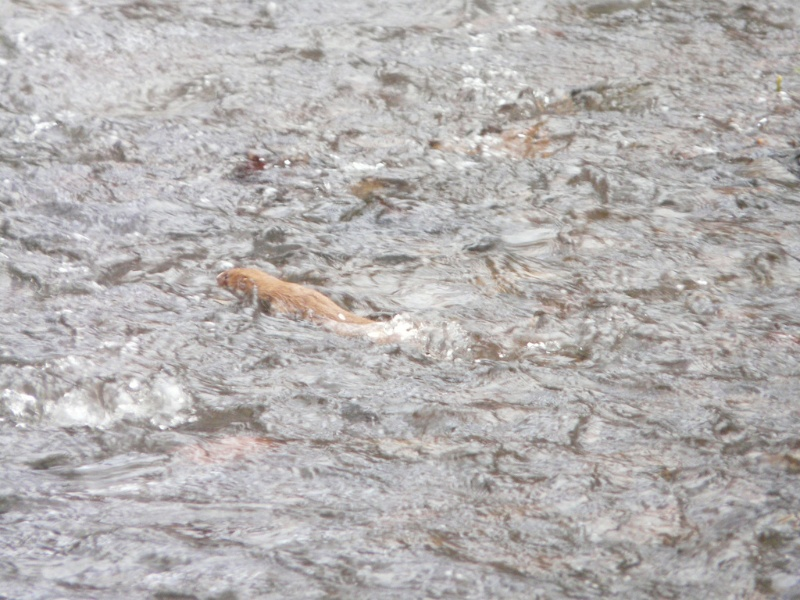minkish: (214, 261, 382, 335)
